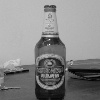beer: (32, 3, 69, 100)
